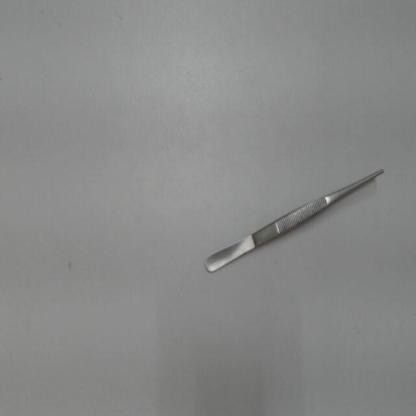Gillies Toothed Dissector: (196, 160, 394, 284)
